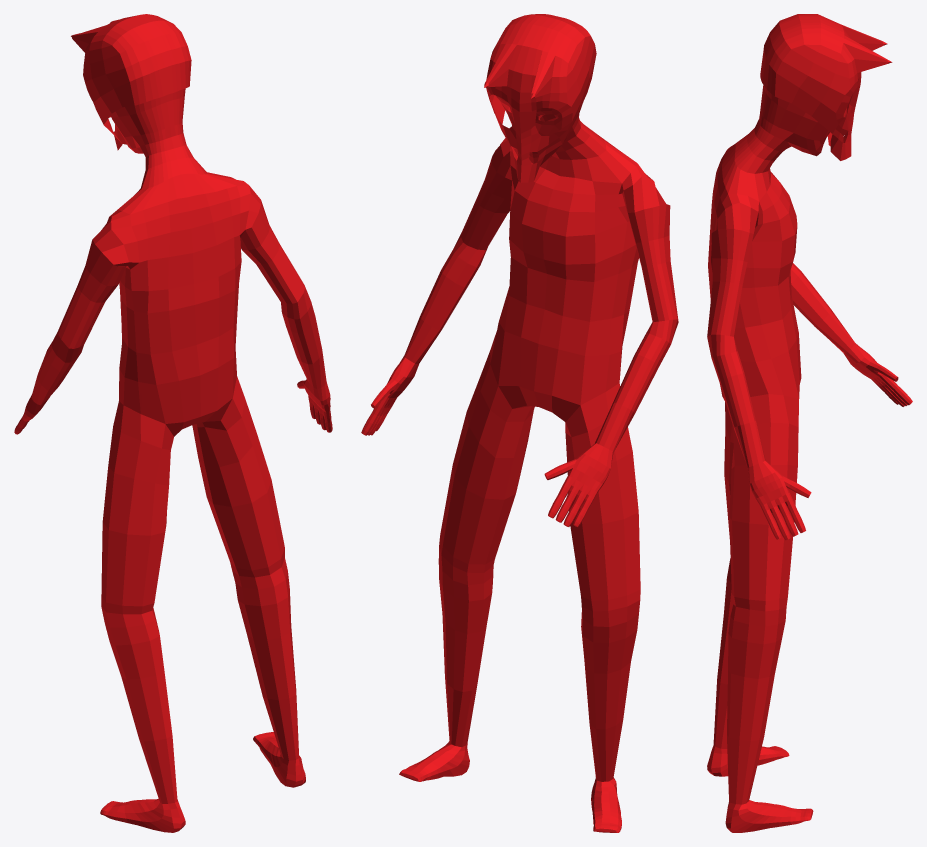
The model's file is reposoE_000323.obj.
The picture shows the model from 3 angles, left to right: view 1: azimuth 30°, elevation 25°; view 2: azimuth 150°, elevation 25°; view 3: azimuth 270°, elevation 25°; orthographic projection. The views are drawn at different scales.
Parts seen in each view (by area): view 1: Plane.002_Plane.001; view 2: Plane.002_Plane.001; view 3: Plane.002_Plane.001.
Part boxes in pixels (<box>): Plane.002_Plane.001: <box>14,14,332,832</box>; Plane.002_Plane.001: <box>361,14,678,832</box>; Plane.002_Plane.001: <box>707,14,912,832</box>.
Bounding box in the file's own units: 2.7 × 7.12 × 1.75.
